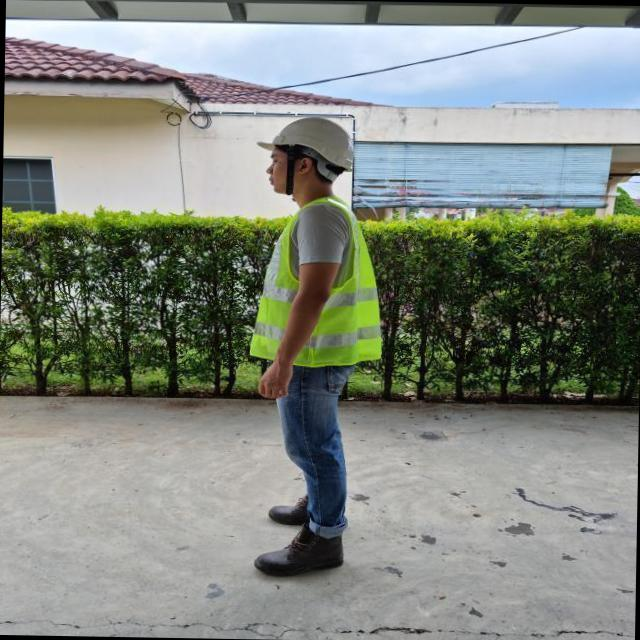hard_hat: (254, 114, 360, 175)
safety_vest: (247, 198, 385, 368)
vehicle: (190, 81, 408, 606)
work_boots: (252, 520, 346, 576), (260, 491, 322, 528)
